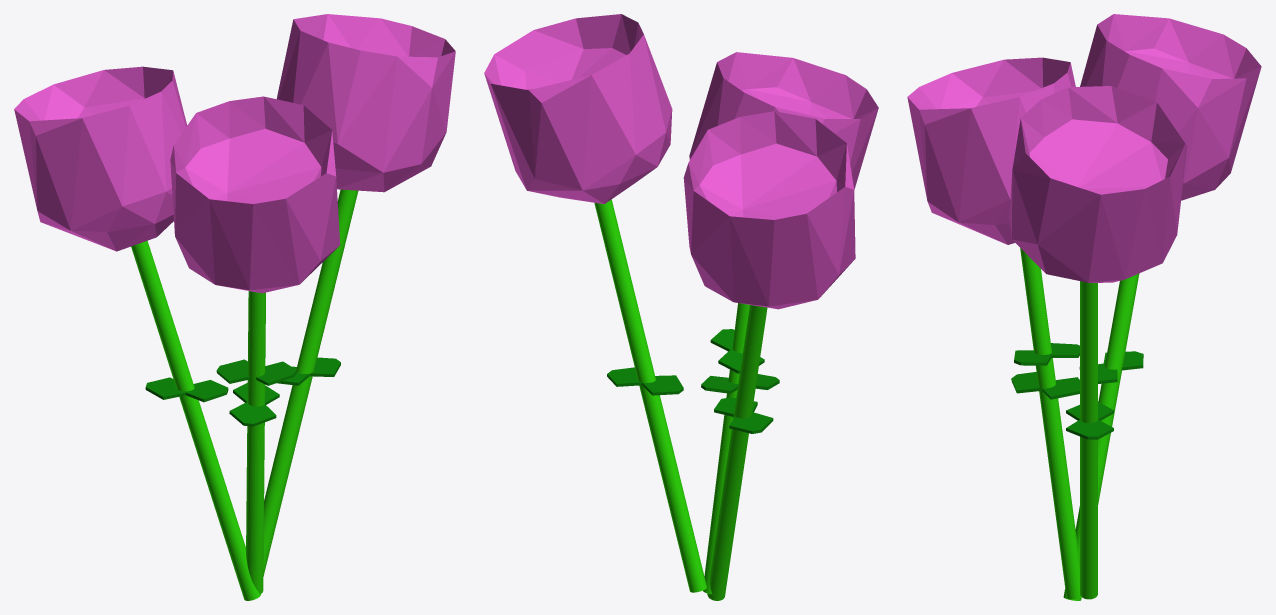
The model's file is flowers.fbx.
The picture shows the model from 3 angles, left to right: view 1: azimuth 30°, elevation 25°; view 2: azimuth 150°, elevation 25°; view 3: azimuth 270°, elevation 25°; orthographic projection.
Visible parts, largest first — view 1: Cylinder.003, Cylinder.001; view 2: Cylinder.003, Cylinder.001; view 3: Cylinder.003, Cylinder.001.
Part boxes in pixels (x1,y1,x2,y2): Cylinder.003: [14, 14, 455, 293]; Cylinder.001: [131, 189, 358, 600]; Cylinder.003: [484, 14, 878, 309]; Cylinder.001: [594, 199, 779, 600]; Cylinder.003: [907, 14, 1261, 282]; Cylinder.001: [1011, 248, 1143, 600].
Size of the model in its own units: 199 by 268 by 156.
